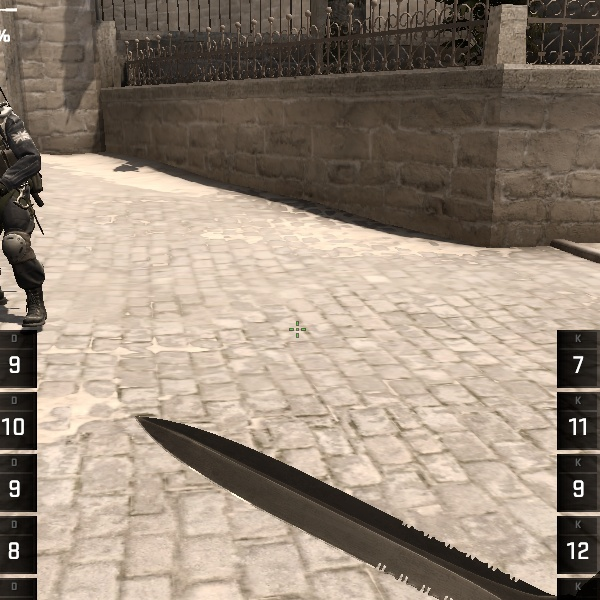t_head: (1, 94, 28, 159)
